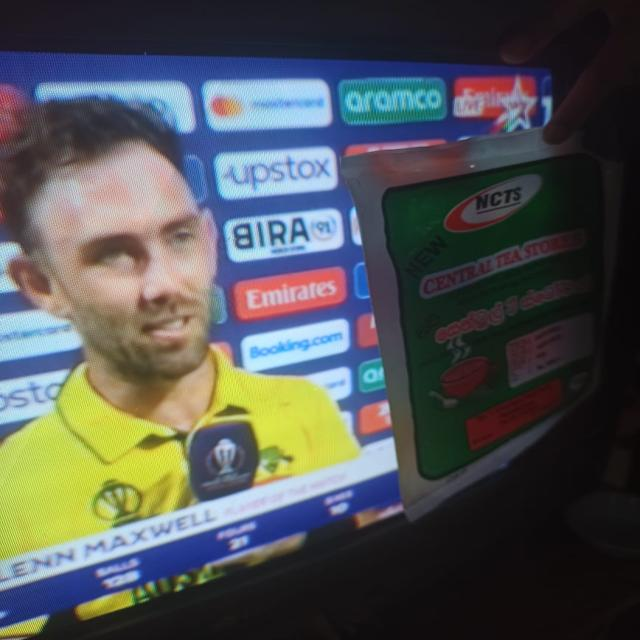Central Tea: (356, 151, 640, 573)
